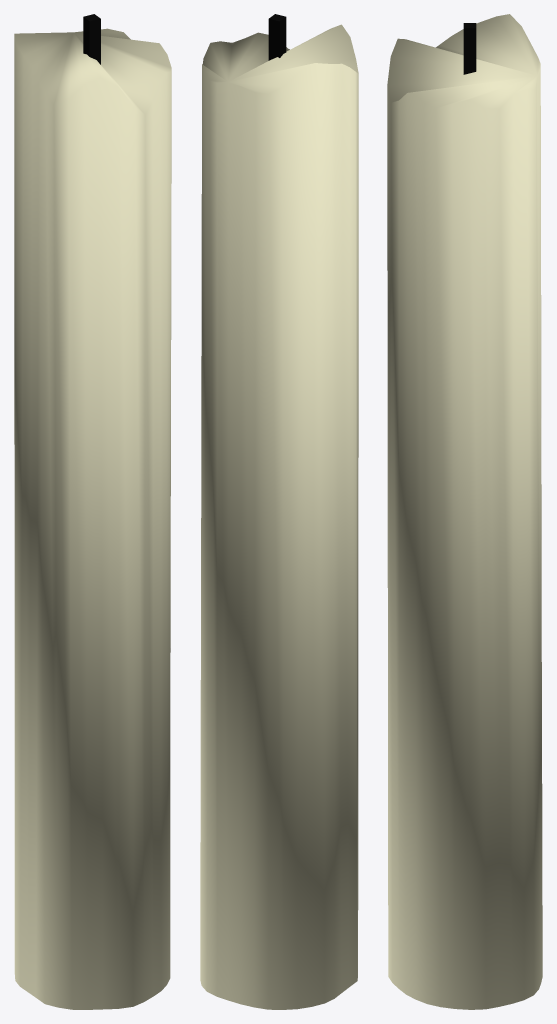
File: candle_m1.fbx
3 views of the same model, side by side, from view 1: azimuth 30°, elevation 25°; view 2: azimuth 150°, elevation 25°; view 3: azimuth 270°, elevation 25° (orthographic).
Visible parts, largest first — view 1: Candle; view 2: Candle; view 3: Candle.
Boxes of the visible parts, bbox=[...] form: Candle: bbox=[14, 14, 171, 1009]; Candle: bbox=[200, 14, 358, 1009]; Candle: bbox=[387, 14, 542, 1009].
Bounding box in the file's own units: 0.1214 × 0.1191 × 0.82.
